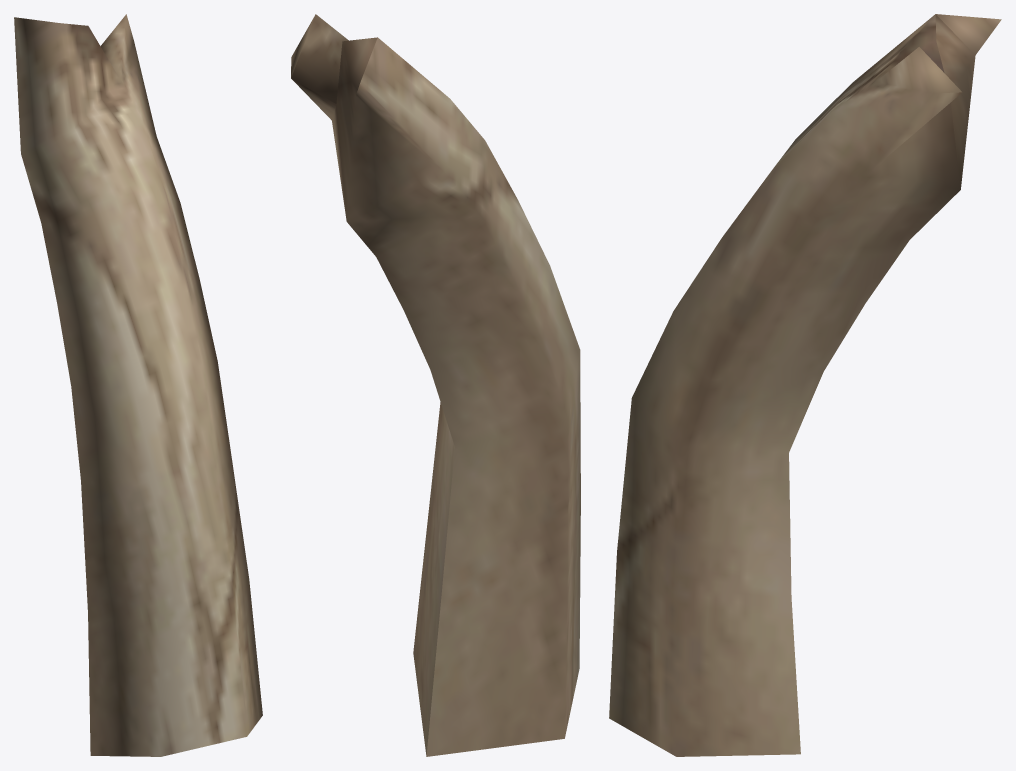
File: Item_5007_gutou_suigu03.FBX
3 views of the same model, side by side, from view 1: azimuth 30°, elevation 25°; view 2: azimuth 150°, elevation 25°; view 3: azimuth 270°, elevation 25° (orthographic). The views are drawn at different scales.
Parts seen in each view (by area): view 1: Item_5007_gutou_suigu03; view 2: Item_5007_gutou_suigu03; view 3: Item_5007_gutou_suigu03.
Part boxes in pixels (x1,y1,x2,y2): Item_5007_gutou_suigu03: [14, 14, 262, 756]; Item_5007_gutou_suigu03: [291, 14, 580, 756]; Item_5007_gutou_suigu03: [609, 14, 1001, 756].
Bounding box in the file's own units: 22.65 × 91.03 × 44.4.
